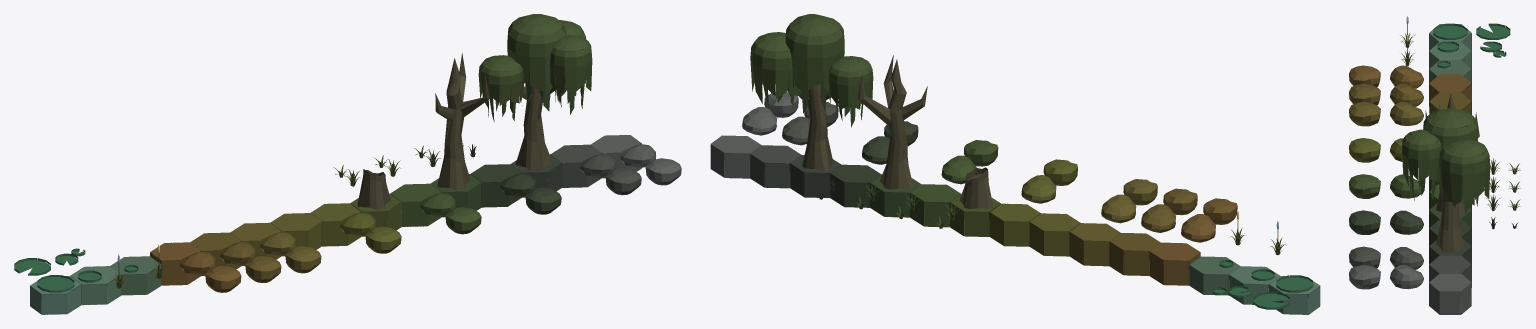
Rendered from terrain2.fbx.
3 views of the same model, side by side, from view 1: azimuth 30°, elevation 25°; view 2: azimuth 150°, elevation 25°; view 3: azimuth 270°, elevation 25° (orthographic). The views are drawn at different scales.
Parts seen in each view (by area): view 1: sphere, cylinder_19, sphere_5, cylinder_18, sphere_3, cylinder_12, cylinder_9, cylinder_3, cylinder_1, cylinder_5, cylinder_10, cylinder_13 (+27 smaller); view 2: sphere, cylinder_19, sphere_4, sphere_3, cylinder_9, cylinder_11, cylinder_6, cylinder_8, cylinder_18, cylinder_7, cylinder_10, cylinder_5 (+25 smaller); view 3: sphere_4, sphere_5, cylinder_11, sphere, cylinder_18, cylinder_10, cylinder_9, sphere_22, sphere_14, sphere_13, sphere_17, sphere_19 (+25 smaller).
Boxes of the visible parts, x1,y1,x2,y2 form: sphere: (507,14,566,94); cylinder_19: (435,53,489,189); sphere_5: (550,35,592,95); cylinder_18: (515,76,565,170); sphere_3: (478,55,523,108); cylinder_12: (110,256,161,295); cylinder_9: (150,242,201,285); cylinder_3: (390,183,441,226); cylinder_1: (471,164,521,207); cylinder_5: (310,203,361,246); cylinder_10: (550,144,601,187); cylinder_13: (70,266,121,305); sphere: (785,15,844,96); cylinder_19: (858,55,927,189); sphere_4: (750,32,801,103); sphere_3: (828,56,873,109); cylinder_9: (1149,242,1200,285); cylinder_11: (710,135,761,178); cylinder_6: (1029,213,1080,256); cylinder_8: (1109,233,1160,275); cylinder_18: (789,83,833,171); cylinder_7: (1069,223,1120,266); cylinder_10: (750,145,801,188); cylinder_5: (989,203,1040,246); sphere_4: (1439,139,1490,205); sphere_5: (1402,129,1441,186); cylinder_11: (1429,273,1471,314); sphere: (1423,108,1477,179); cylinder_18: (1428,169,1463,252); cylinder_10: (1429,255,1471,296); cylinder_9: (1429,74,1471,106); sphere_22: (1349,264,1380,289); sphere_14: (1349,138,1380,162); sphere_13: (1349,101,1380,126); sphere_17: (1349,174,1380,198); sphere_19: (1349,210,1380,234).
Size of the model in its own units: 3750 by 1019 by 1008.
Materials: 1 (1 with a texture image).
